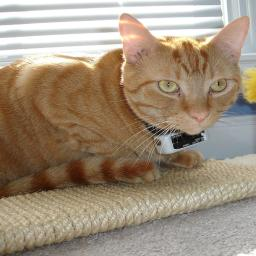catnose: (186, 111, 212, 123)
